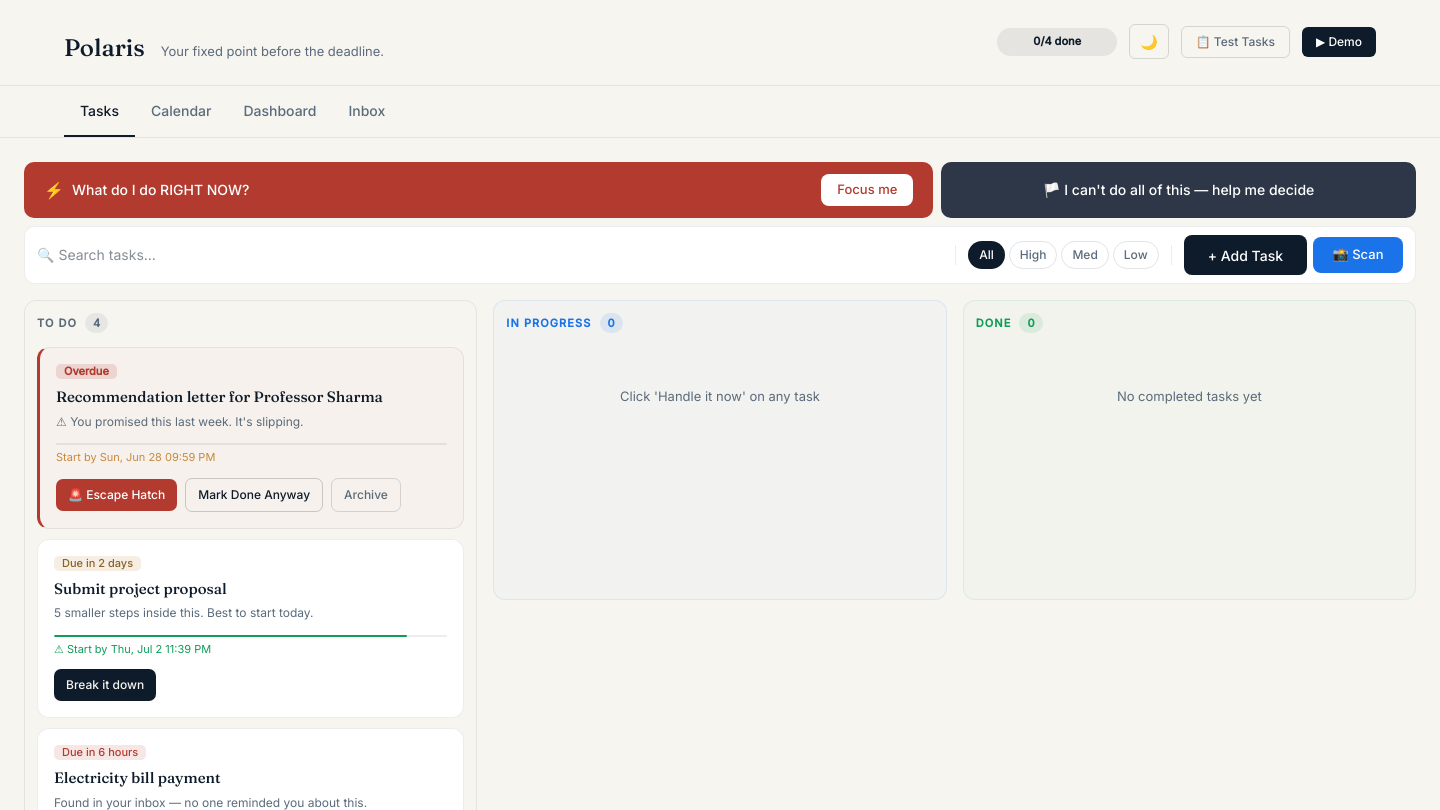
Test: Parse with AI Button › Typing name then clicking Parse shows loading
Click the button "+ Add Task".
click(1245, 254)  # box [1184, 234, 1307, 274]
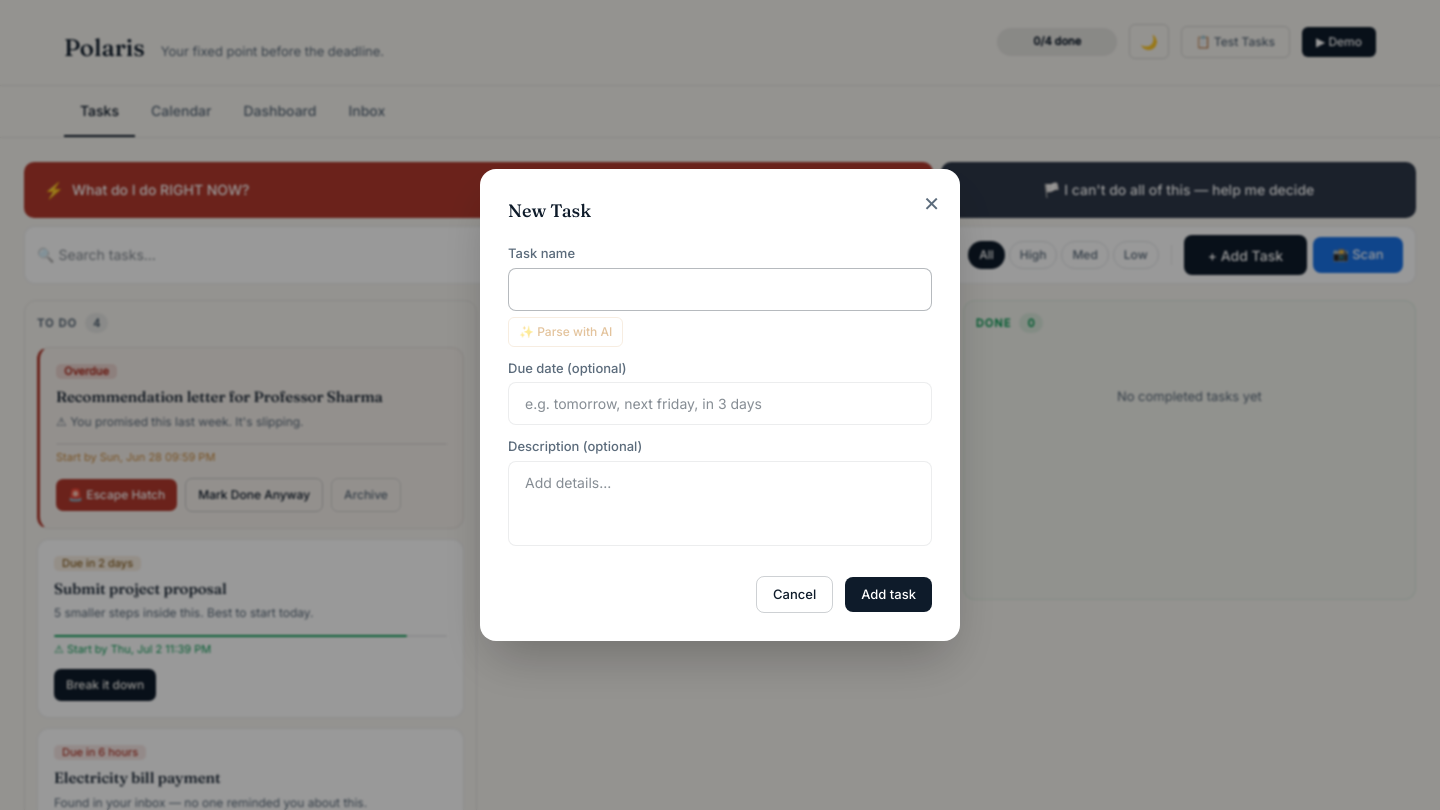
Type "Test task" into the 1st field.
click(720, 289); type("Test task")  # box [508, 268, 932, 310]
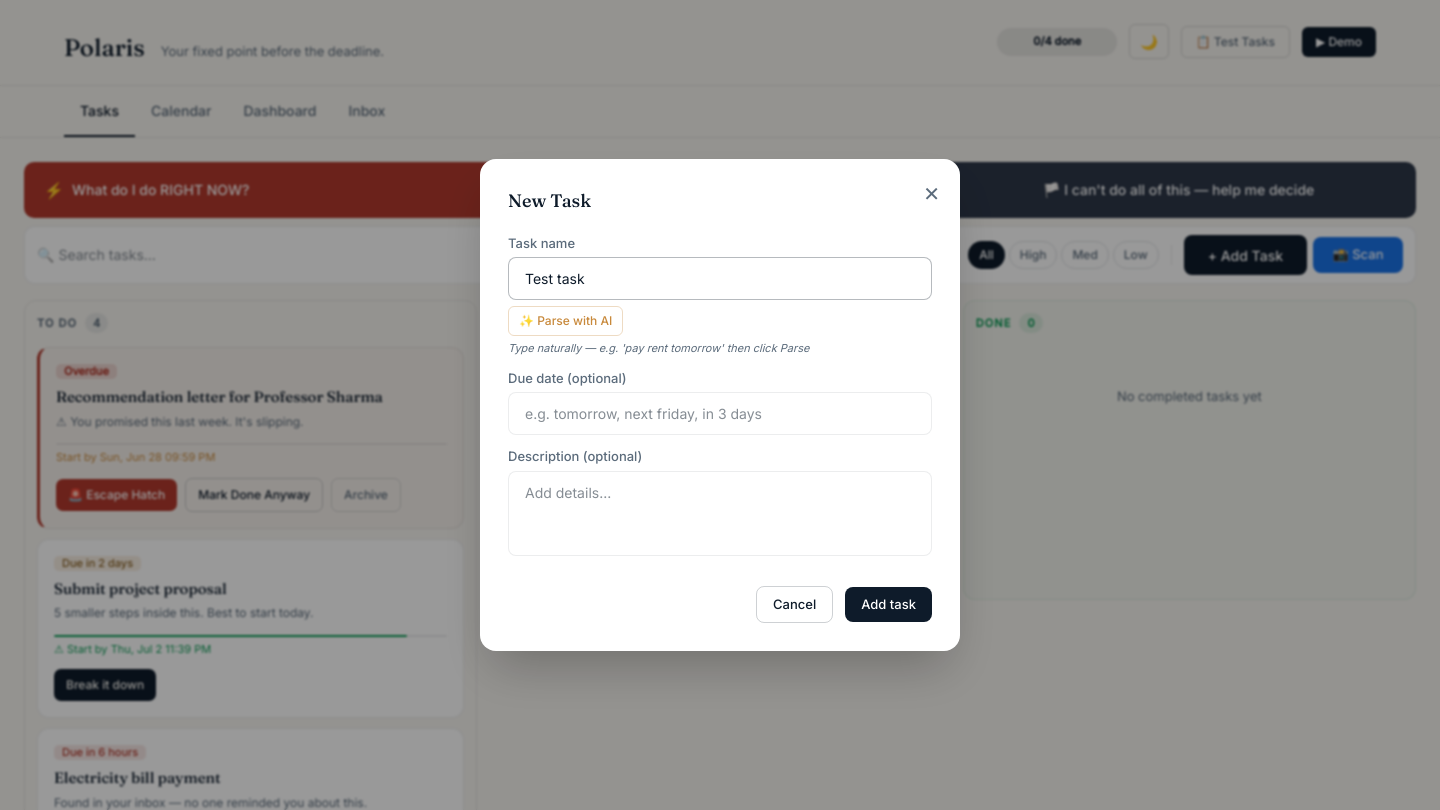
Click the button "✨ Parse with AI".
click(566, 321)  # box [508, 306, 623, 336]
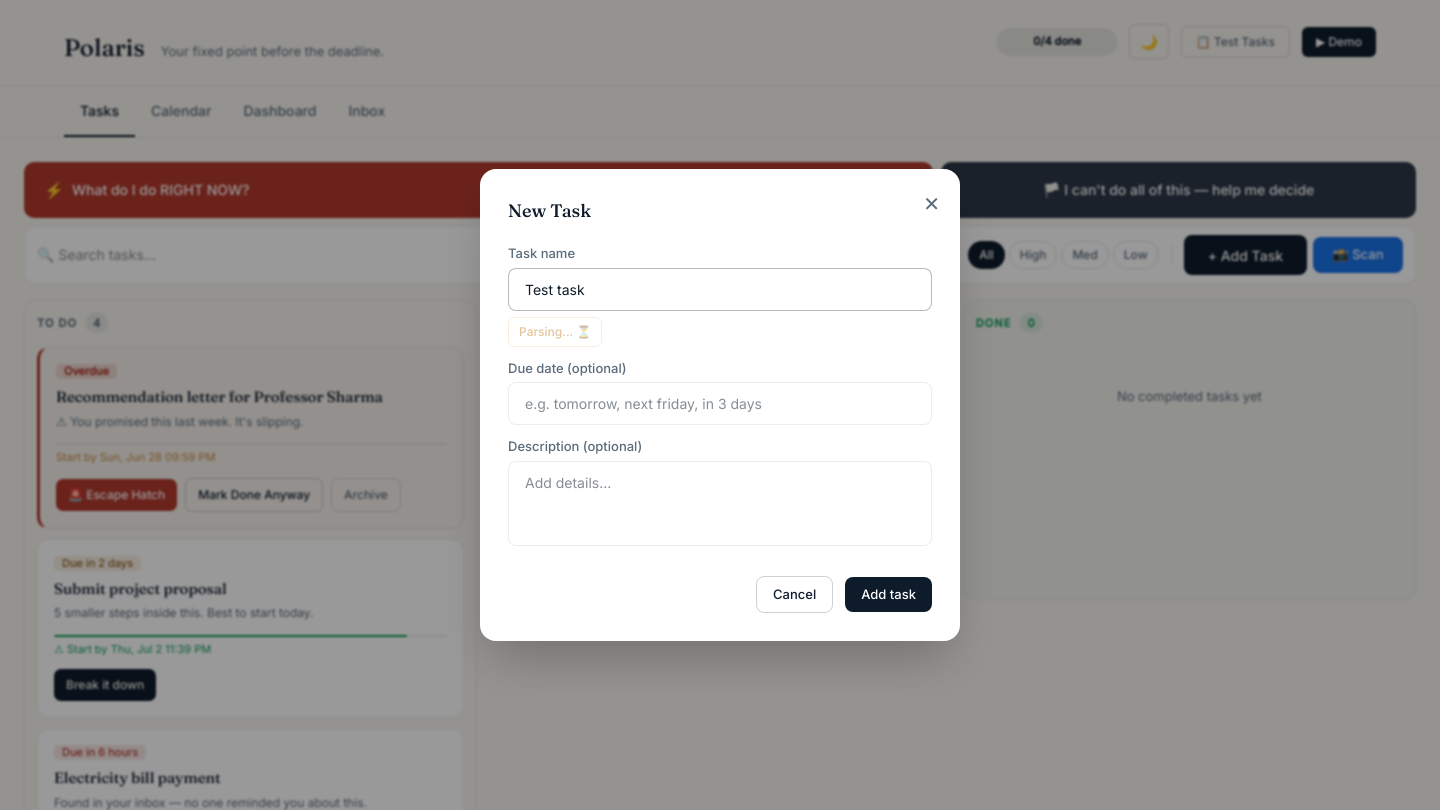
Expected: the button "Parsing... ⏳" is shown, [508, 316, 602, 346]
